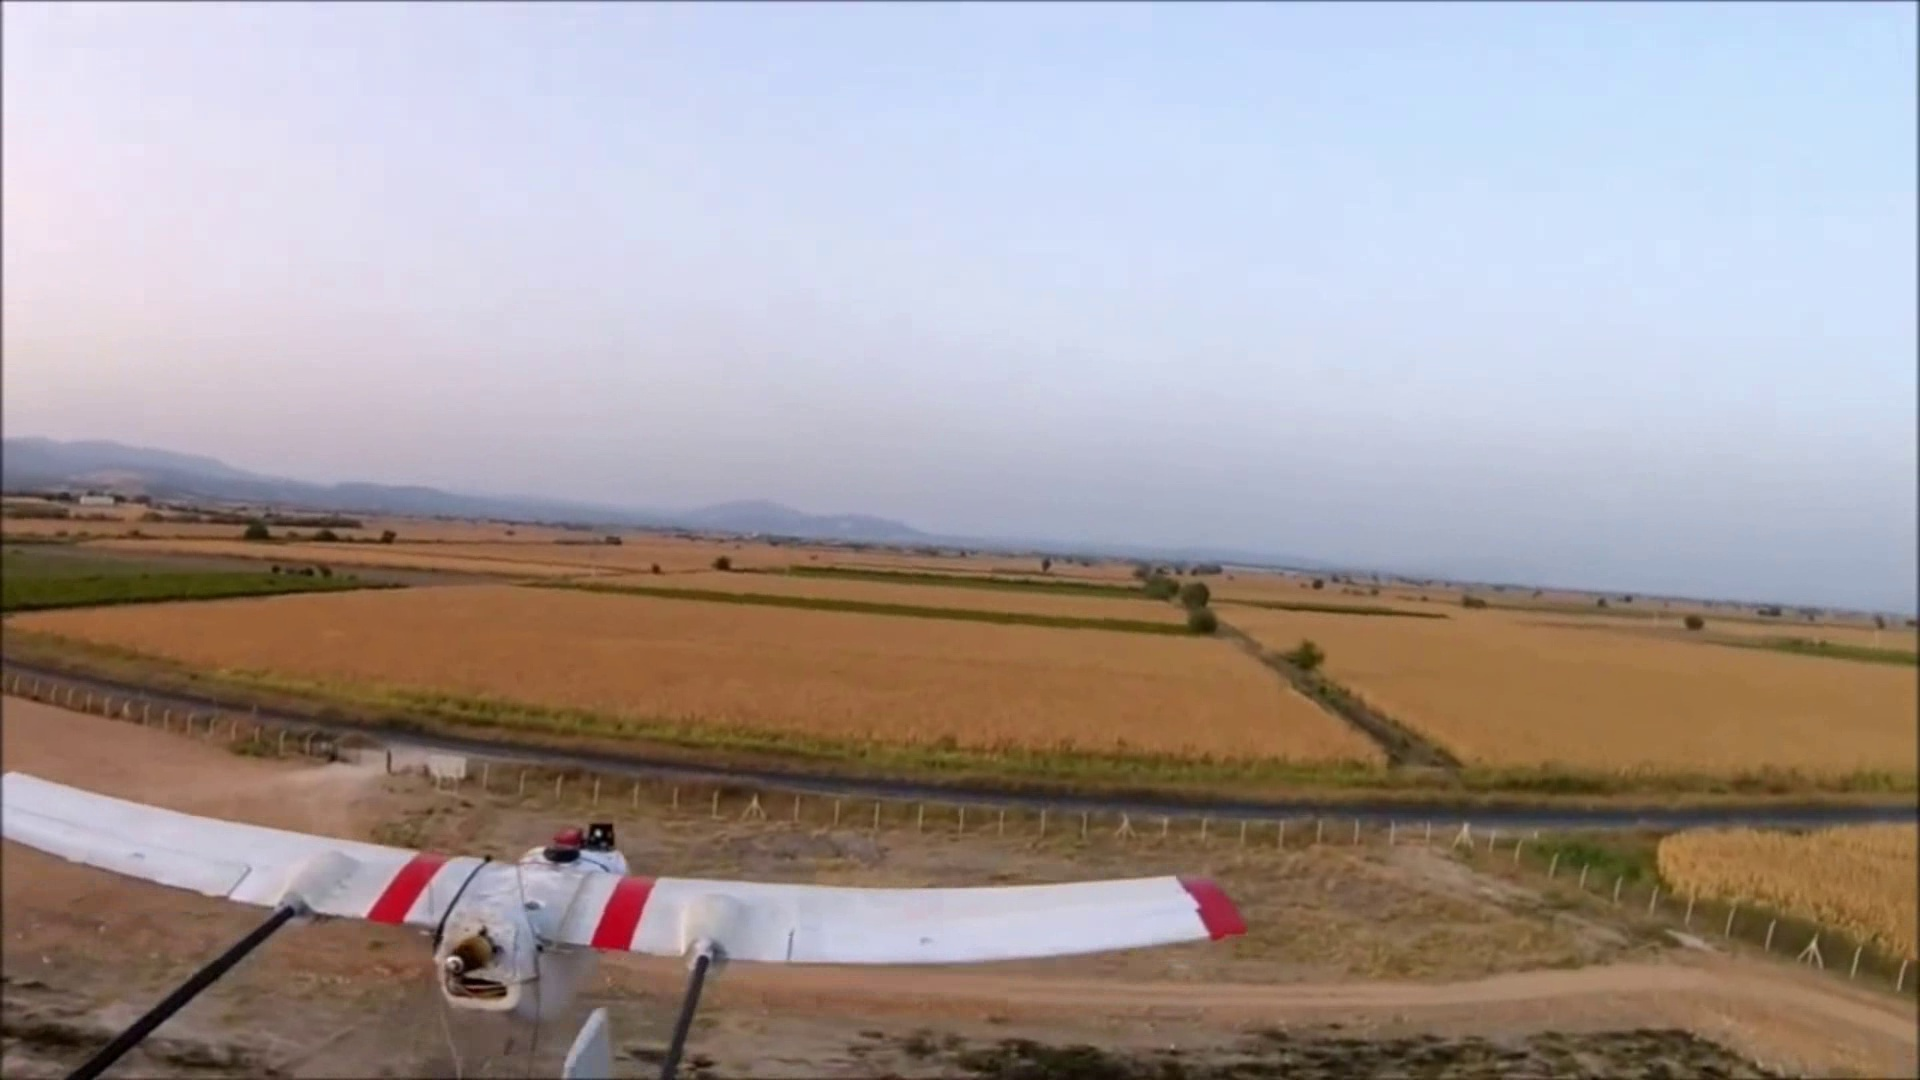airplane: (7, 740, 1251, 1033)
